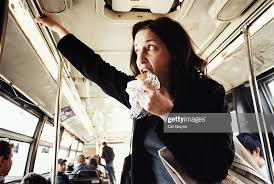eating: (102, 22, 217, 149)
